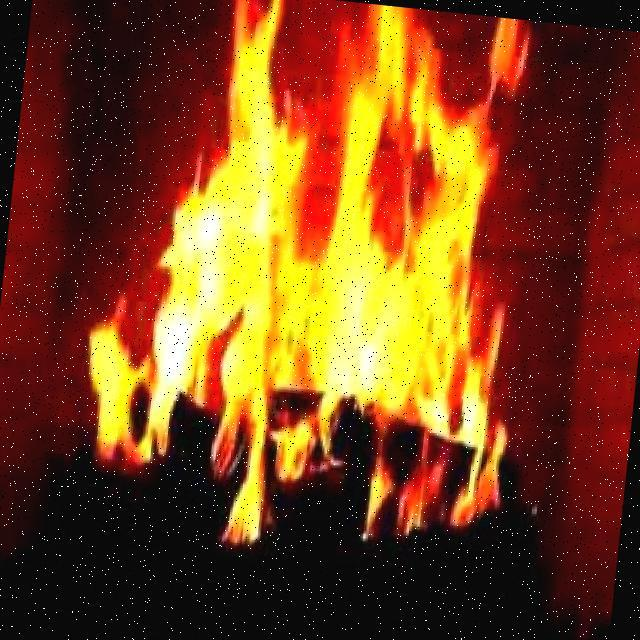Fire: (97, 5, 532, 465)
